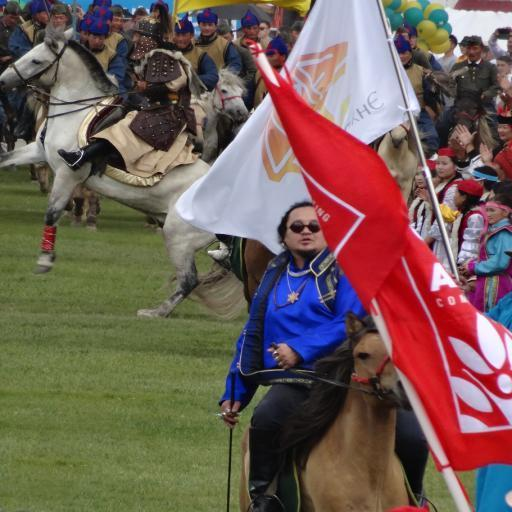horse: (0, 20, 249, 320), (239, 308, 417, 512)
